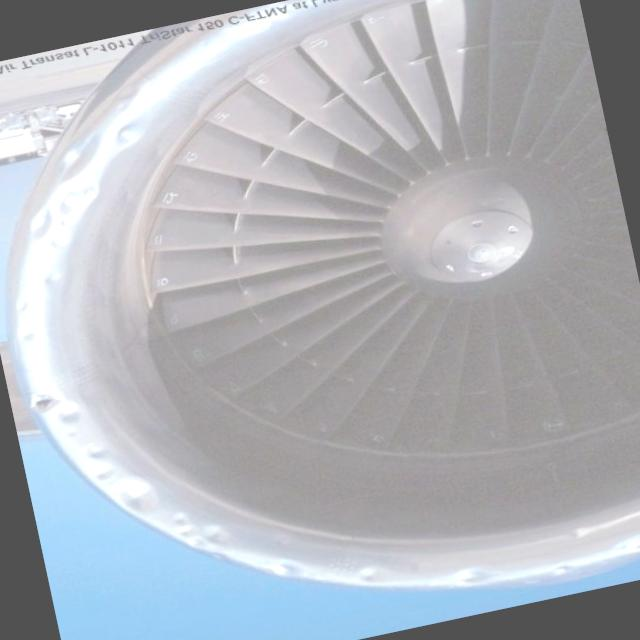dent: (0, 77, 181, 254), (40, 386, 164, 524)
